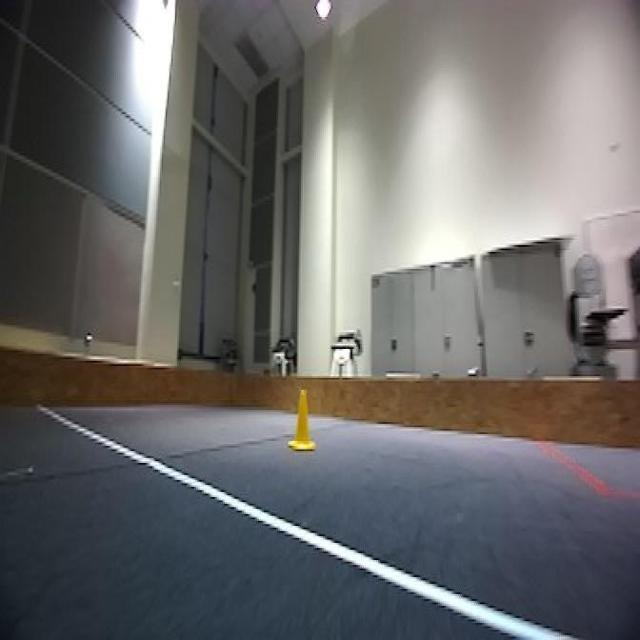frc_cone: (291, 386, 319, 446)
